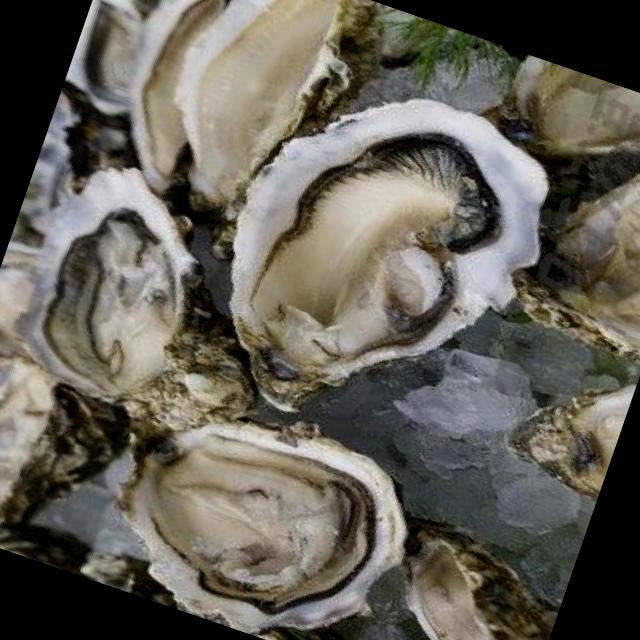Oyster-Open: (206, 76, 574, 416), (4, 154, 272, 439), (92, 410, 419, 640), (169, 0, 401, 268), (499, 162, 640, 363), (0, 340, 133, 540), (119, 0, 249, 199), (474, 49, 640, 173), (395, 519, 564, 640), (487, 374, 636, 506), (65, 0, 150, 138)
